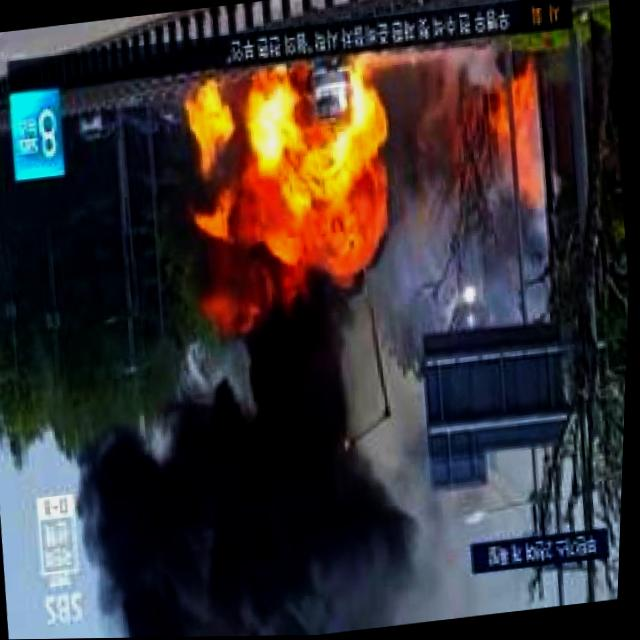helmet: (168, 49, 418, 317), (484, 61, 549, 174)
no_helmet: (67, 300, 436, 639)
